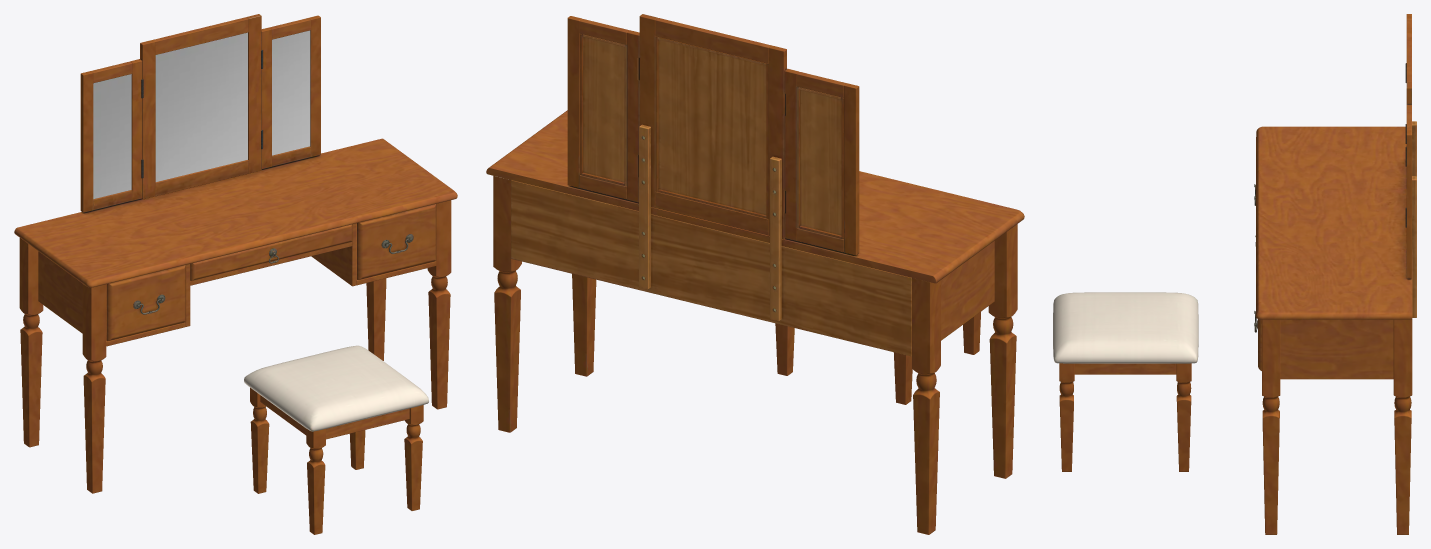
The model's file is abo-B07BL5QBY6.glb.
The picture shows the model from 3 angles, left to right: view 1: azimuth 30°, elevation 25°; view 2: azimuth 150°, elevation 25°; view 3: azimuth 270°, elevation 25°; orthographic projection. The views are drawn at different scales.
Bounding box in the file's own units: 1.37 × 1.31 × 1.11.
Materials: 1 (1 with a texture image).
